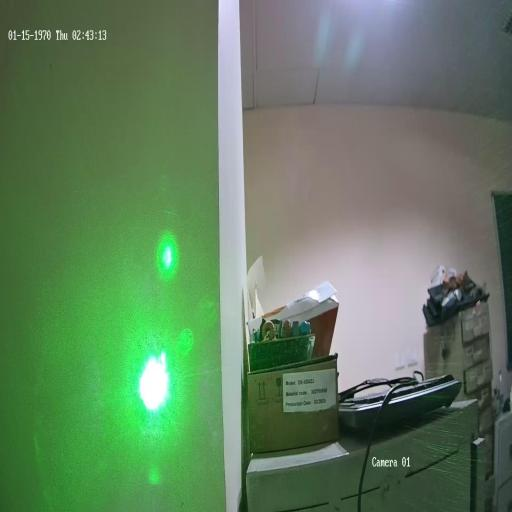laser: (130, 337, 180, 418)
